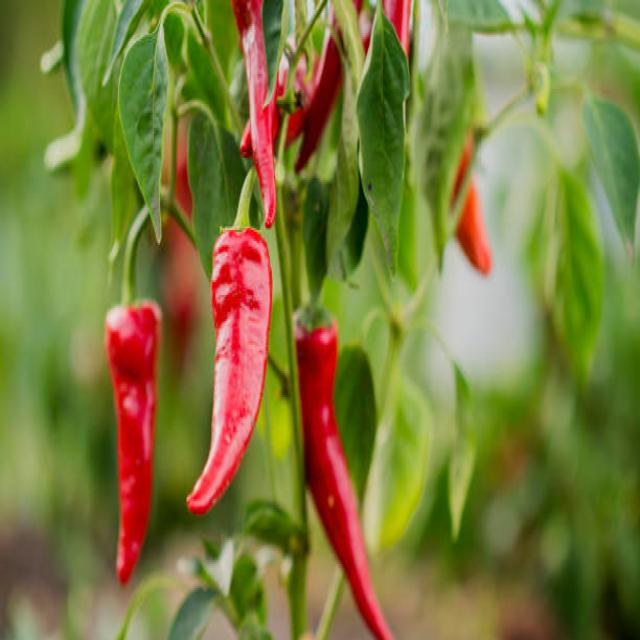Ripe: (187, 230, 271, 512), (231, 0, 276, 226)
